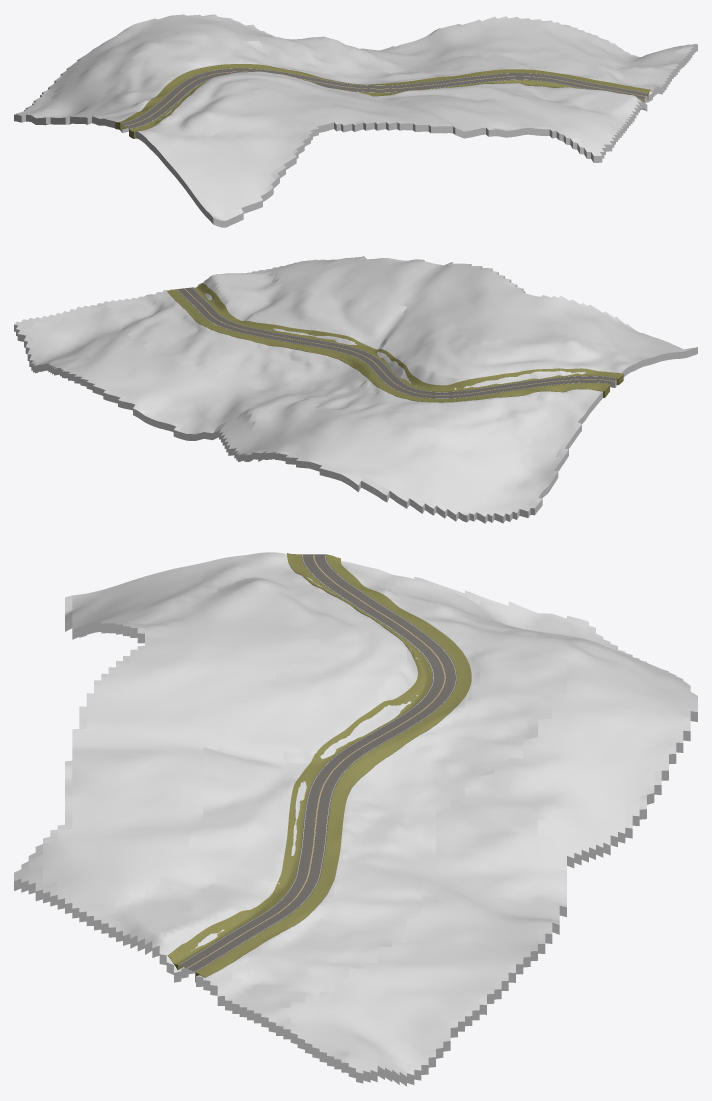
File: conz_158.glb
The picture shows the model from 3 angles, top to bottom: view 1: azimuth 30°, elevation 25°; view 2: azimuth 150°, elevation 25°; view 3: azimuth 270°, elevation 25°; orthographic projection. The views are drawn at different scales.
Visible parts, largest first — view 1: terrain158, road158, verge158R, verge158L, paint_yellow158, paint_white158; view 2: terrain158, road158, verge158L, verge158R; view 3: terrain158, road158, verge158R, verge158L, paint_white158, paint_yellow158.
Part boxes in pixels (x1,y1,x2,y2): terrain158: (14,14,697,227); road158: (121,68,647,129); verge158R: (115,64,650,129); verge158L: (129,76,643,138); paint_yellow158: (125,71,645,125); paint_white158: (121,68,646,128); terrain158: (14,256,697,523); road158: (176,287,618,398); verge158L: (193,283,623,391); verge158R: (167,289,609,402); terrain158: (14,552,697,1086); road158: (178,554,457,972); verge158R: (195,554,471,982); verge158L: (167,553,432,969); paint_white158: (179,554,456,971); paint_yellow158: (187,554,445,968).
Bounding box in the file's own units: 276 × 48.11 × 188.
